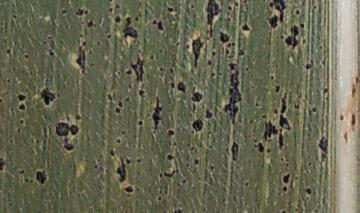tarspot: (221, 69, 245, 128), (277, 96, 293, 156), (149, 93, 166, 137), (204, 1, 223, 36), (38, 85, 59, 109), (191, 35, 205, 70), (70, 45, 88, 72), (316, 133, 331, 163), (132, 55, 147, 85), (262, 118, 280, 142), (121, 15, 138, 39), (54, 117, 70, 139), (116, 158, 128, 184), (229, 139, 242, 163), (283, 36, 303, 49), (150, 17, 166, 33), (33, 167, 47, 185), (163, 168, 179, 183), (274, 1, 286, 21), (266, 13, 279, 31), (347, 110, 358, 131), (191, 118, 205, 133), (72, 6, 91, 17), (60, 138, 75, 150), (289, 20, 300, 36), (238, 21, 251, 34), (217, 28, 229, 42), (203, 107, 215, 121), (176, 80, 188, 94), (14, 91, 29, 102), (122, 184, 137, 195), (255, 137, 264, 155), (1, 153, 8, 175), (70, 122, 79, 138), (85, 17, 97, 29), (301, 60, 314, 71), (237, 47, 248, 60), (282, 171, 292, 185), (164, 152, 176, 163), (308, 104, 320, 115), (190, 92, 204, 101), (207, 49, 221, 58), (136, 87, 147, 98), (227, 61, 238, 72), (208, 70, 219, 81), (107, 146, 117, 158), (304, 185, 314, 197), (318, 58, 330, 68), (338, 110, 346, 125), (147, 52, 159, 62), (274, 81, 283, 94), (17, 101, 27, 112), (165, 128, 176, 138), (105, 5, 115, 16), (32, 136, 43, 146), (253, 98, 263, 109), (16, 117, 28, 126), (224, 2, 233, 14), (172, 205, 185, 213), (275, 155, 288, 163), (3, 46, 13, 56), (74, 112, 84, 122), (320, 85, 330, 95), (207, 163, 217, 173), (164, 5, 175, 14), (124, 66, 133, 77), (292, 8, 303, 17), (304, 158, 315, 167), (154, 194, 166, 202), (277, 205, 289, 213), (21, 51, 31, 60), (47, 48, 57, 57), (112, 106, 122, 115), (103, 166, 112, 176), (265, 146, 274, 156), (75, 30, 84, 40), (259, 112, 270, 120), (205, 59, 216, 67), (59, 7, 68, 16), (180, 176, 189, 185), (293, 102, 302, 111), (223, 47, 232, 56), (136, 45, 145, 54), (17, 166, 25, 176), (135, 155, 143, 165), (191, 158, 201, 166), (167, 67, 177, 75), (112, 14, 122, 22), (271, 107, 279, 117), (113, 68, 123, 76), (189, 85, 199, 93), (106, 91, 113, 102), (280, 184, 288, 193), (11, 13, 20, 21), (168, 81, 176, 90), (247, 118, 256, 126), (299, 20, 307, 29), (189, 1, 197, 10), (157, 64, 165, 73), (243, 179, 251, 188), (21, 177, 30, 185), (117, 98, 124, 108), (79, 41, 89, 48), (312, 206, 322, 213), (45, 34, 55, 41), (183, 162, 193, 169), (157, 169, 163, 180), (120, 129, 128, 137), (183, 139, 191, 147), (115, 137, 122, 146), (137, 118, 144, 127), (183, 43, 192, 50), (105, 33, 114, 40), (268, 72, 275, 81), (92, 162, 99, 171), (207, 142, 214, 151), (272, 62, 281, 69), (3, 77, 12, 84), (318, 42, 324, 52), (224, 16, 234, 22), (311, 3, 318, 11), (174, 40, 182, 47), (1, 93, 5, 106), (232, 1, 238, 8)
